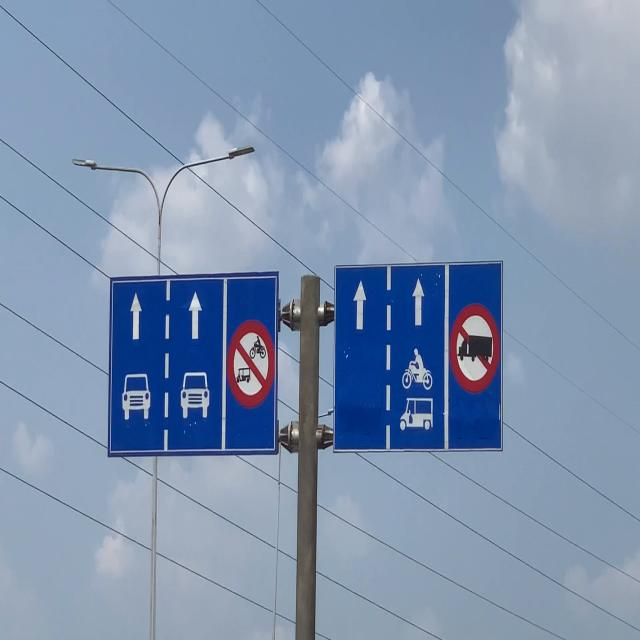Cam con lai: (448, 303, 500, 397)
